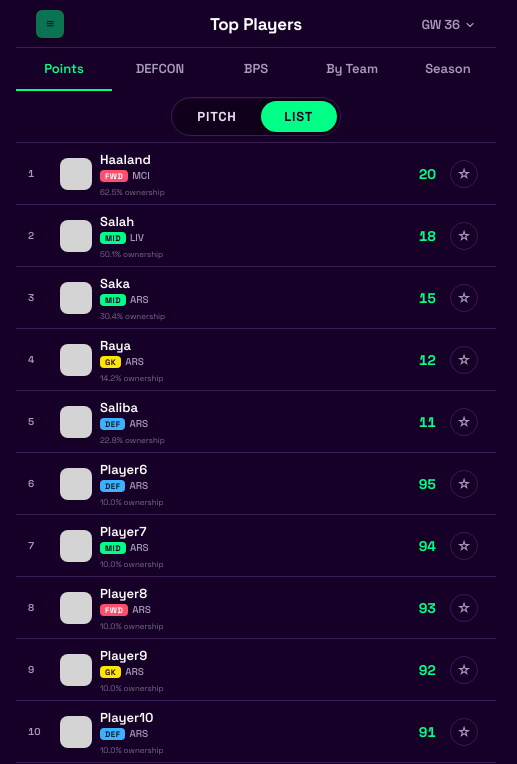
Test case: TopPlayersScreen — Season tab › switches to DEFCON season view
Step 1. Click the tab "Season" → click(448, 70), box [400,48,496,91]
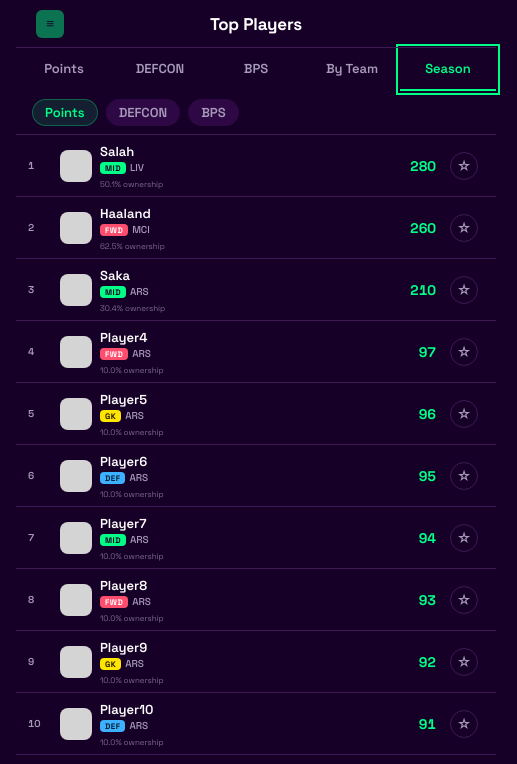
Step 2. Click the button "DEFCON" → click(143, 112), box [106,99,180,126]
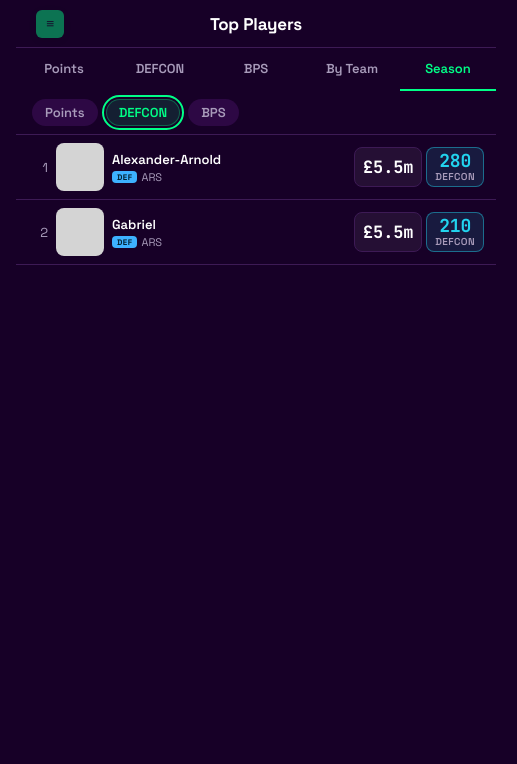
Expected: the text "Alexander-Arnold" is shown, [112,150,221,168]
